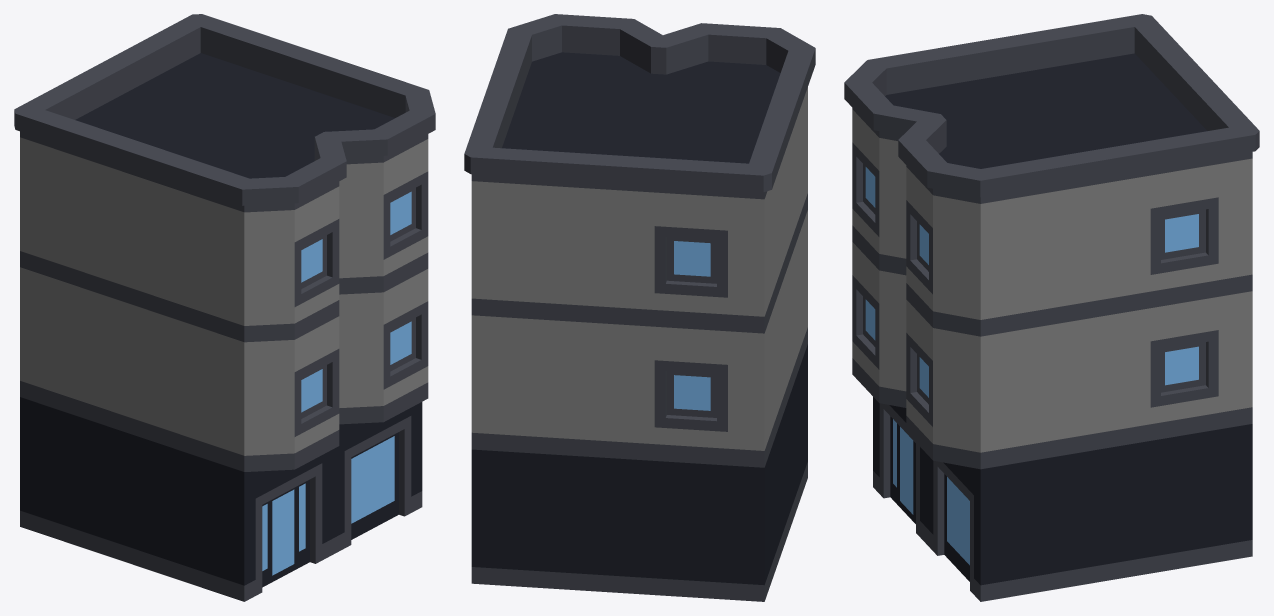
File: variant_28.obj
The picture shows the model from 3 angles, left to right: view 1: azimuth 30°, elevation 25°; view 2: azimuth 150°, elevation 25°; view 3: azimuth 270°, elevation 25°; orthographic projection. The views are drawn at different scales.
Visible parts, largest first — view 1: small_buildingA; view 2: small_buildingA; view 3: small_buildingA.
Part boxes in pixels (x1=…): small_buildingA: x1=14, y1=14, x2=435, y2=601; small_buildingA: x1=464, y1=14, x2=815, y2=601; small_buildingA: x1=844, y1=14, x2=1259, y2=601.
Size of the model in its own units: 1.08 by 1.28 by 1.13.
